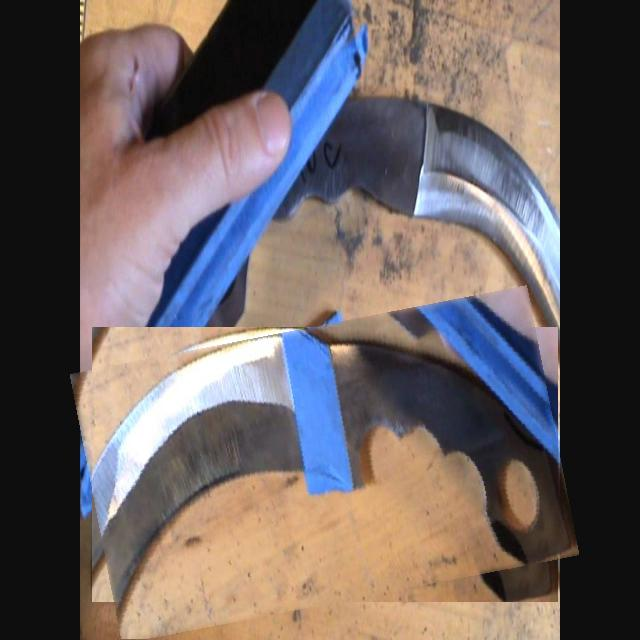knife: (81, 306, 569, 623)
